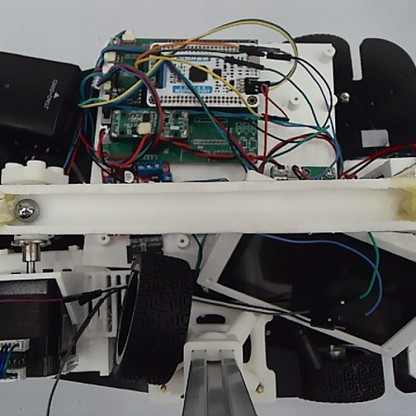ironball: (11, 197, 41, 223)
